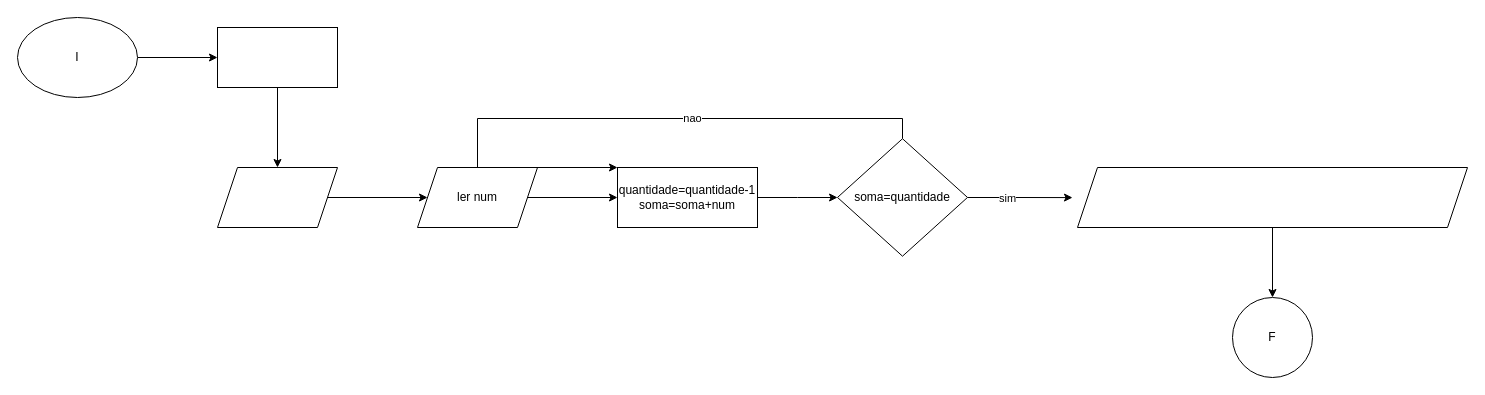
This 1485x395 diagram has some shape labels left out. The shapes that lost their labels are listed below. From the top down, each one's centre as x and y in pixels, then its label:
the point at 277,57: soma=0
the point at 277,197: ler quantidade
the point at 1272,197: escrever " a soma dos números que escreveste é: " . Soma
